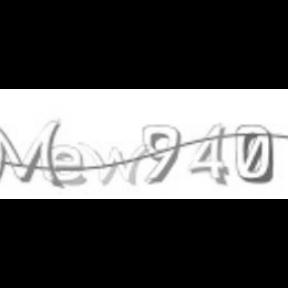0: (234, 122, 276, 184)
4: (189, 122, 231, 186)
9: (141, 124, 183, 186)
M: (0, 119, 62, 188)
e: (44, 145, 86, 185)
w: (80, 140, 148, 186)
